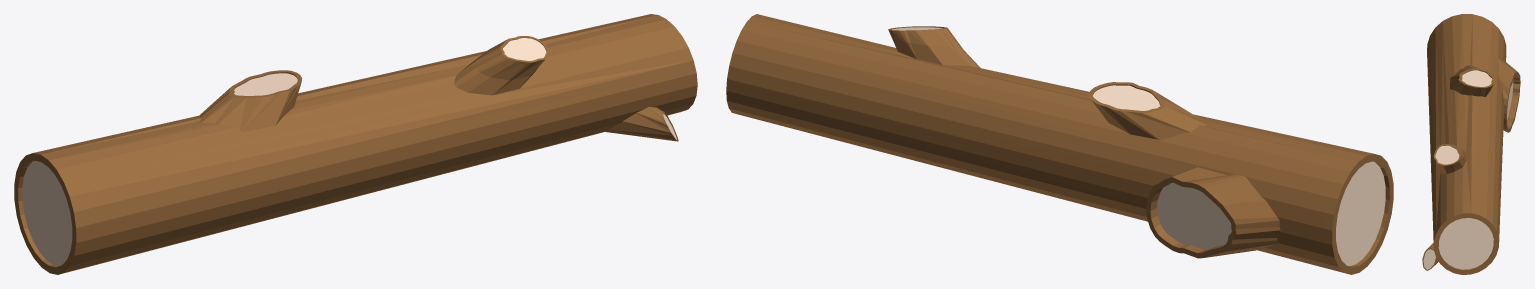
File: Vegetation_Tree_Trunk_Fallen_12.fbx
3 views of the same model, side by side, from view 1: azimuth 30°, elevation 25°; view 2: azimuth 150°, elevation 25°; view 3: azimuth 270°, elevation 25° (orthographic). The views are drawn at different scales.
Parts seen in each view (by area): view 1: Vegetation_Tree_Trunk_Fallen_12; view 2: Vegetation_Tree_Trunk_Fallen_12; view 3: Vegetation_Tree_Trunk_Fallen_12.
Boxes of the visible parts, x1,y1,x2,y2 form: Vegetation_Tree_Trunk_Fallen_12: (14,14,697,274); Vegetation_Tree_Trunk_Fallen_12: (726,14,1393,274); Vegetation_Tree_Trunk_Fallen_12: (1422,14,1520,274).
Bounding box in the file's own units: 205 × 39.41 × 43.43.
